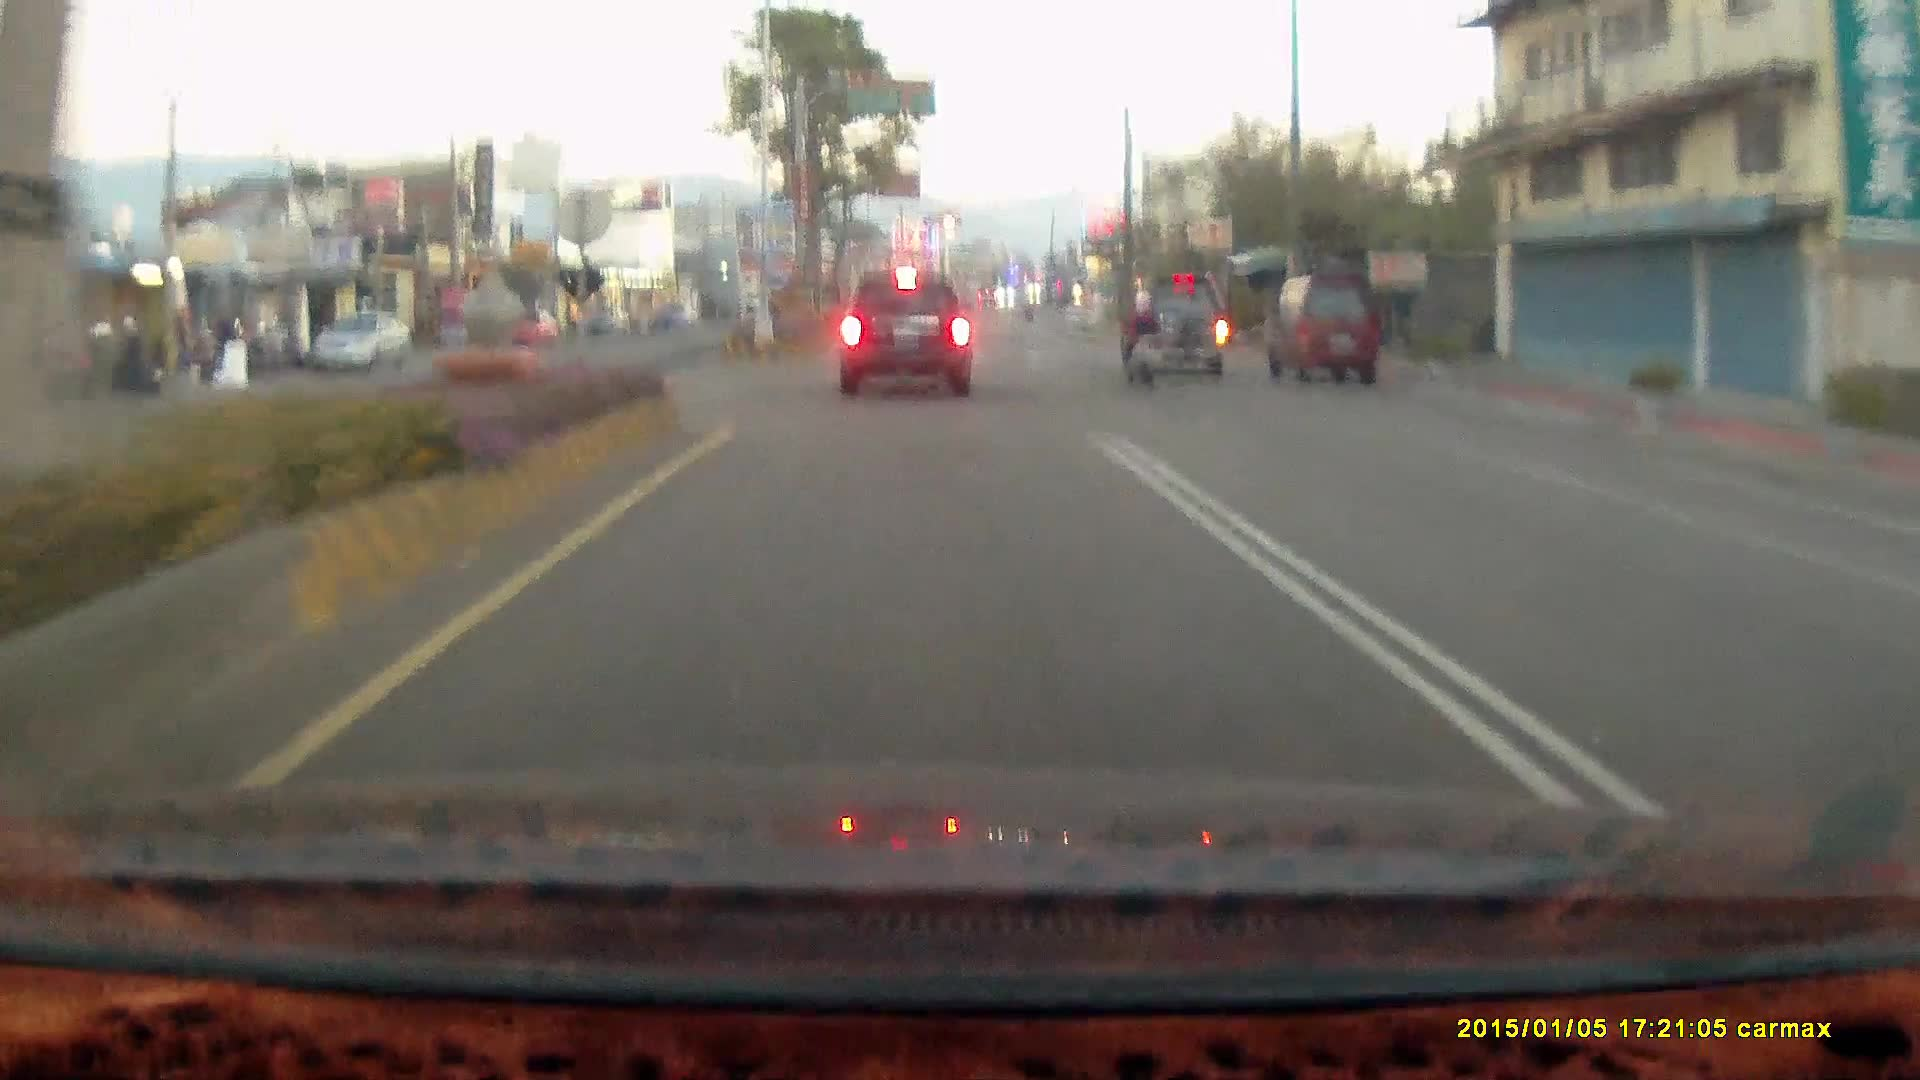pedestrian: (209, 310, 238, 376)
rider: (1118, 291, 1163, 389)
vehicle: (840, 272, 971, 393), (1263, 274, 1379, 386), (1271, 275, 1382, 389), (1134, 278, 1239, 379), (1133, 276, 1228, 377), (1896, 493, 1920, 836), (309, 311, 414, 376), (308, 310, 413, 375), (1883, 528, 1920, 690), (1063, 303, 1101, 333)
